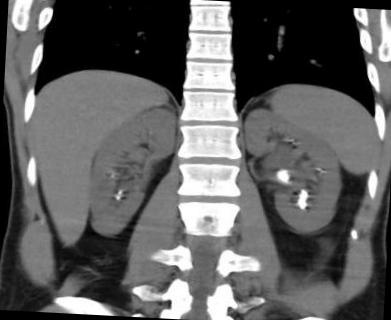Tas_Var: (295, 188, 310, 215), (277, 168, 293, 184), (113, 194, 123, 202), (116, 188, 122, 194), (109, 172, 114, 178)
